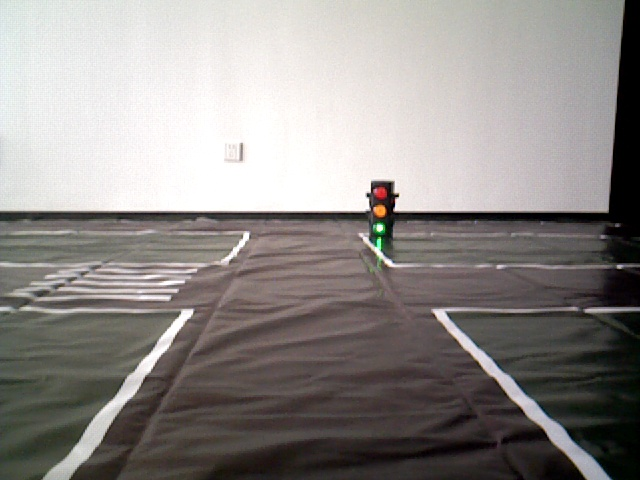green: (368, 183, 385, 236)
